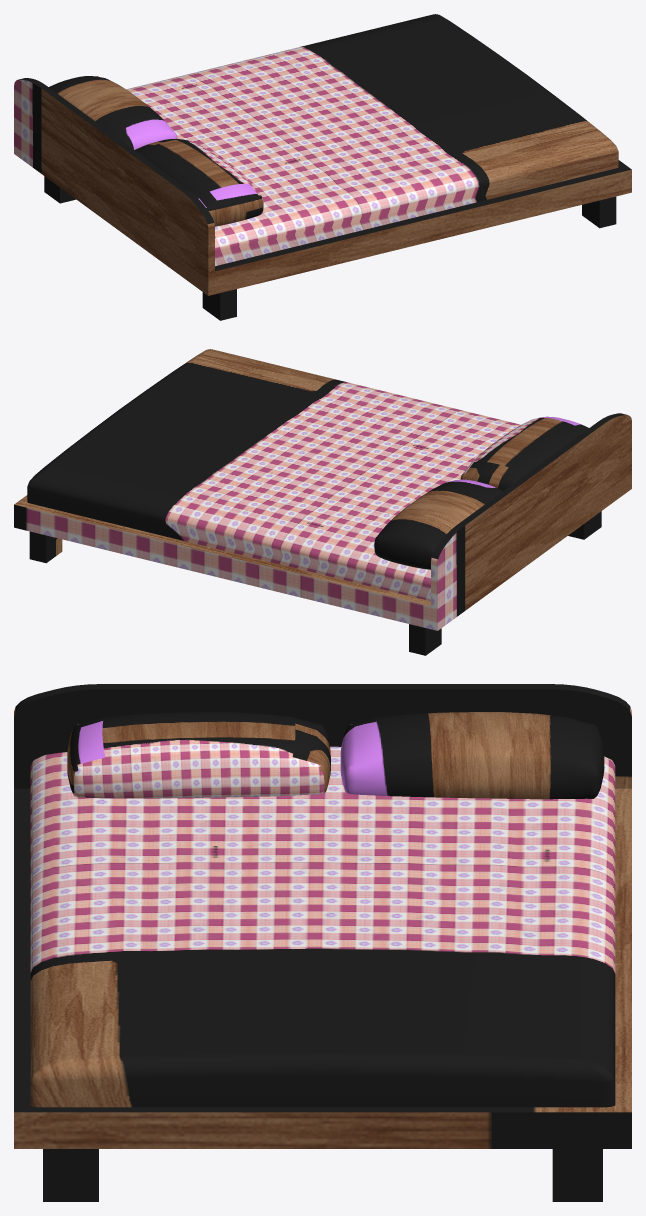
File: Letto_Matrimoniale.fbx
The picture shows the model from 3 angles, top to bottom: view 1: azimuth 30°, elevation 25°; view 2: azimuth 150°, elevation 25°; view 3: azimuth 270°, elevation 25°; orthographic projection. The views are drawn at different scales.
Parts seen in each view (by area): view 1: pCube4, pCube1, pCube3, pCube5; view 2: pCube4, pCube1, pCube5, pCube3; view 3: pCube4, pCube1, pCube5, pCube3.
Boxes of the visible parts, x1,y1,x2,y2 form: pCube4: (126,14,618,266); pCube1: (14,78,631,320); pCube3: (135,138,263,226); pCube5: (49,76,177,149); pCube4: (27,349,520,601); pCube1: (14,413,631,655); pCube5: (374,479,502,569); pCube3: (460,416,588,490); pCube4: (30,746,615,1107); pCube1: (14,684,631,1201); pCube5: (340,712,604,799); pCube3: (67,712,330,798).
Bounding box in the file's own units: 4.42 × 1.22 × 3.51.
